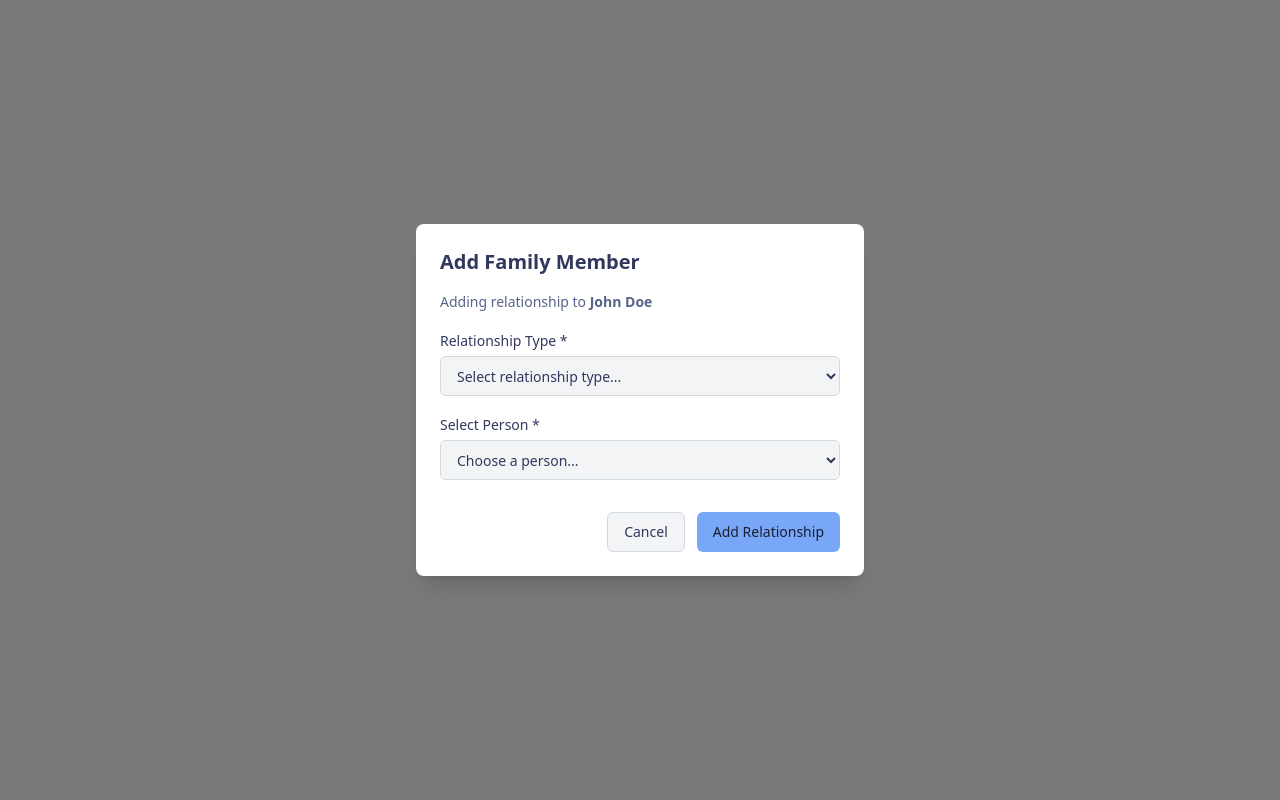
Test case: RelationshipCreateModal › validation › should show error when no relationship type selected
// Select person but not type
Step 1. Select "Jane Doe (b. 1955)" in the dropdown labelled "Select Person *" → coordinates (640, 460), box [440,440,840,480]
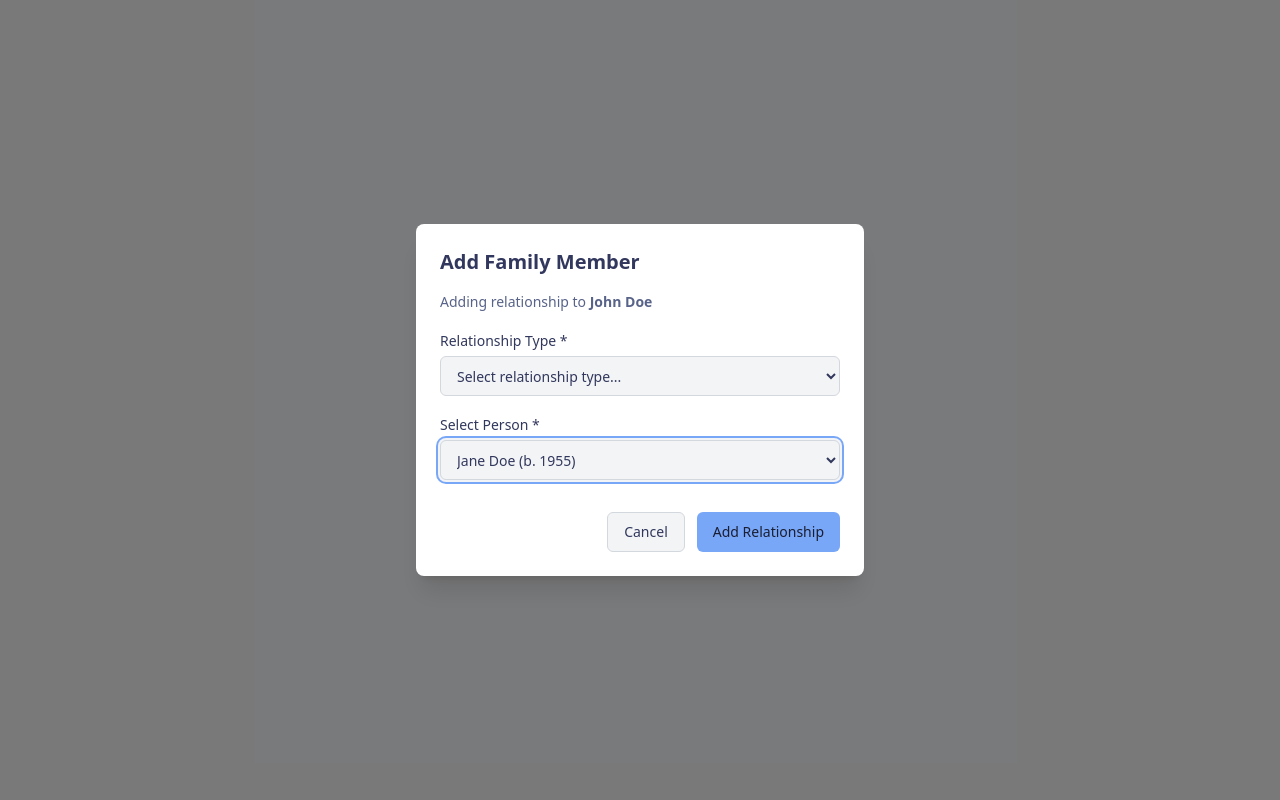
Step 2. Click the button "Add Relationship" → coordinates (768, 532), box [697,512,840,552]
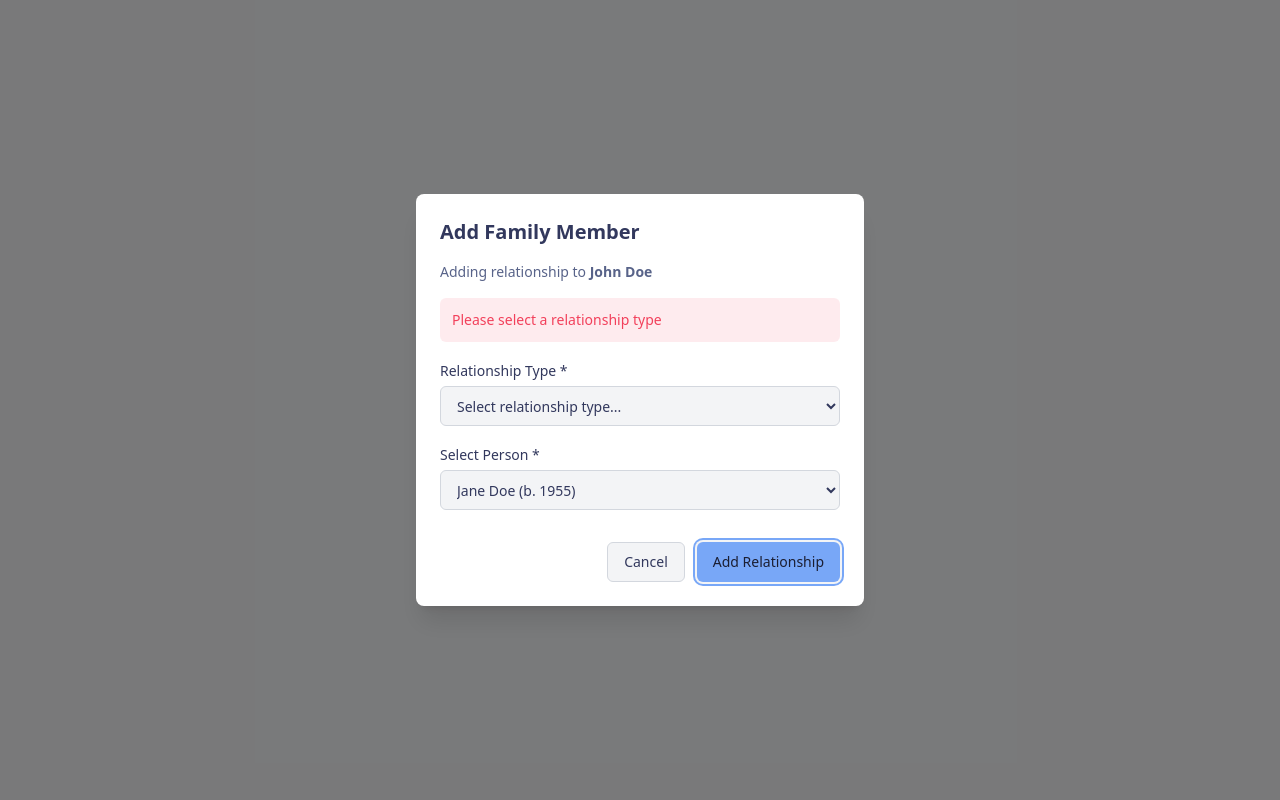
Expected: the text "Please select a relationship type" is shown, [440,298,840,342]
